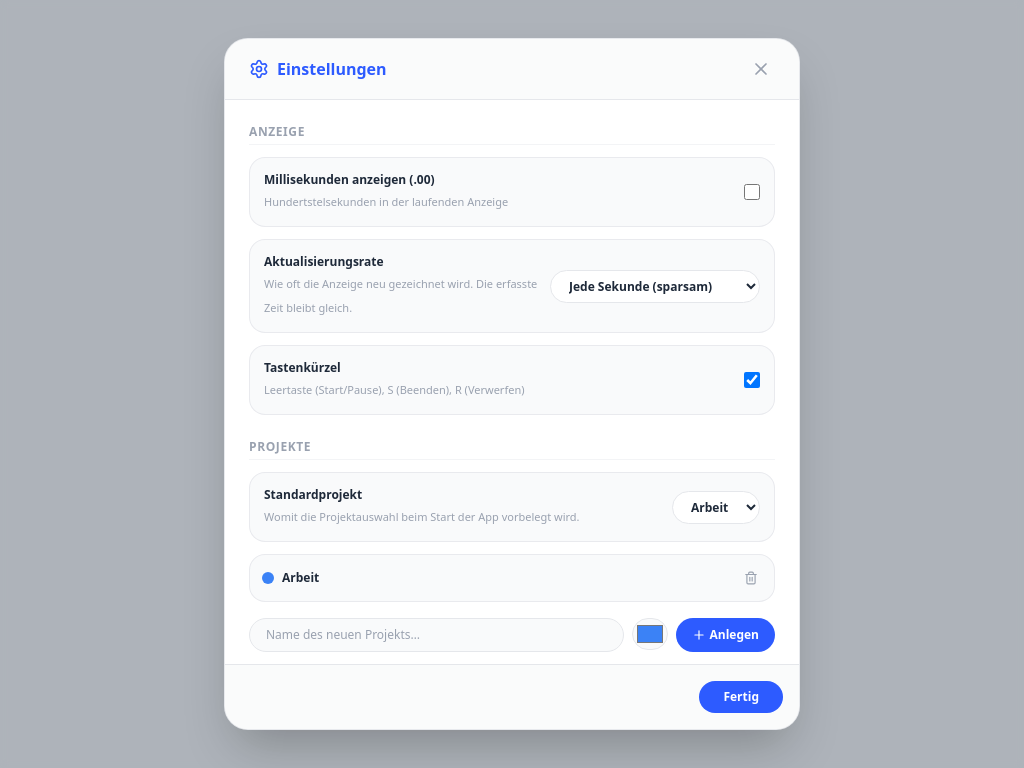
Test: SettingsModal says what happened, on every platform › explains why the last project cannot be deleted
What coordinates should you click on to do the following:
click the button titled "Projekt löschen"
I would click on:
 (751, 578)
Its box is [740, 567, 762, 589].
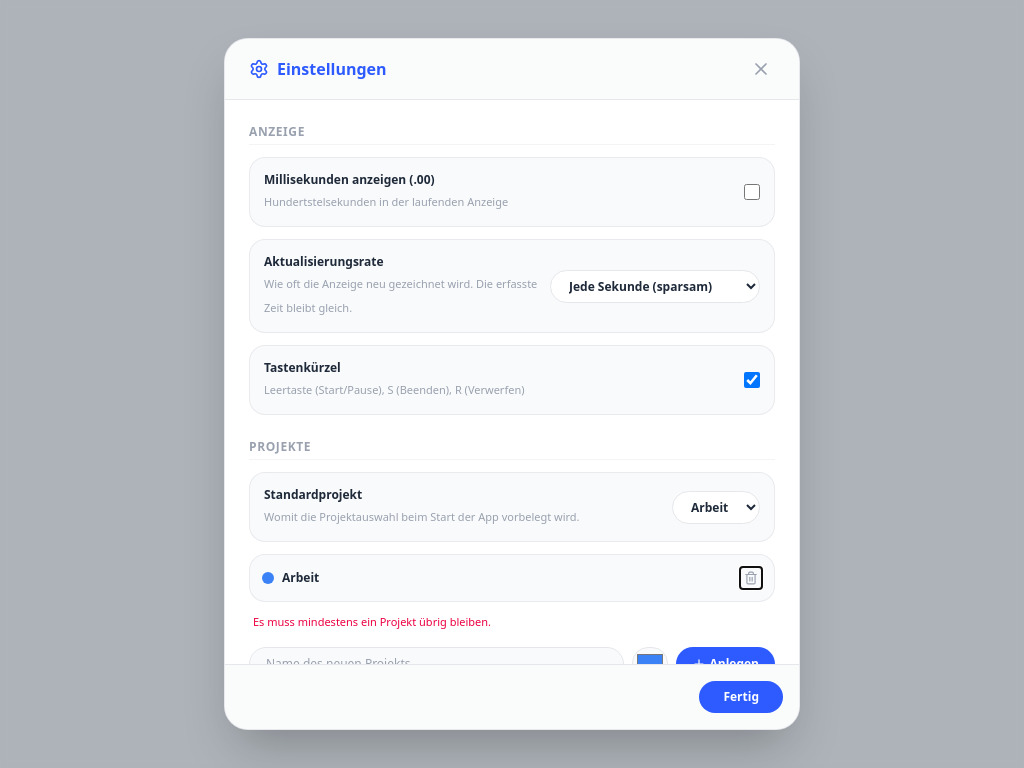
Expected: the message reads "Es muss mindestens ein Projekt übrig bleiben.", [253, 614, 491, 629]
